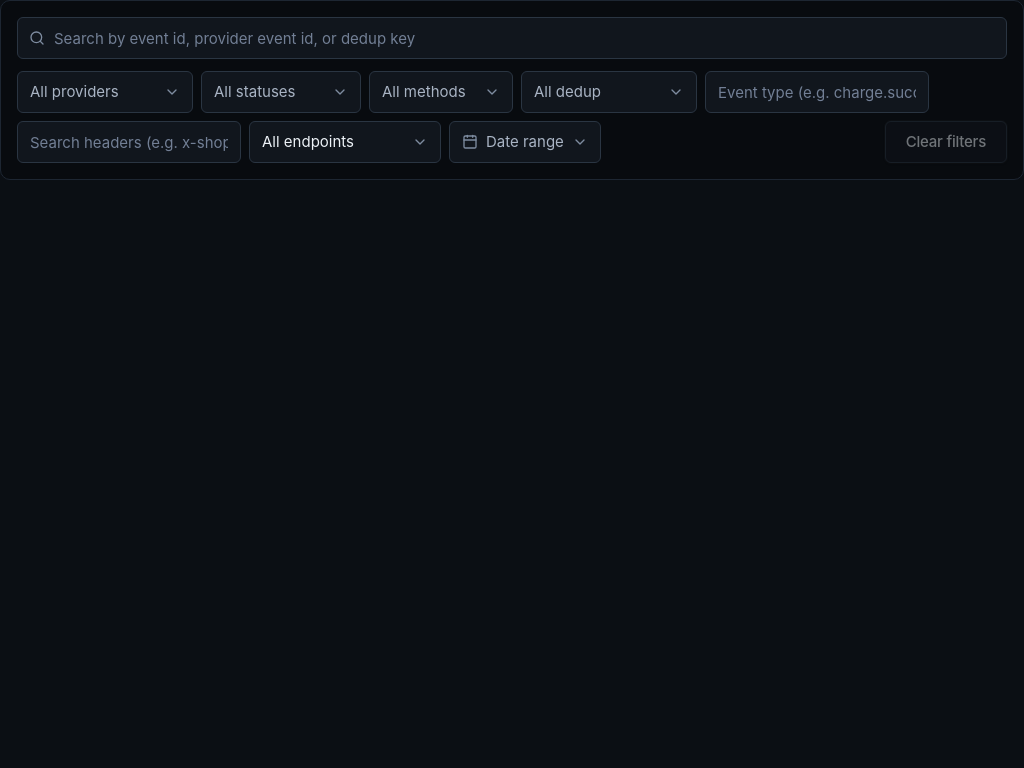
EventsFilterBar — the endpoint facet (org-wide browse only) › lists endpoints by NAME, never by raw uuid
Click the button with aria-label "Filter by endpoint": [345, 142] box [249,121,441,163]
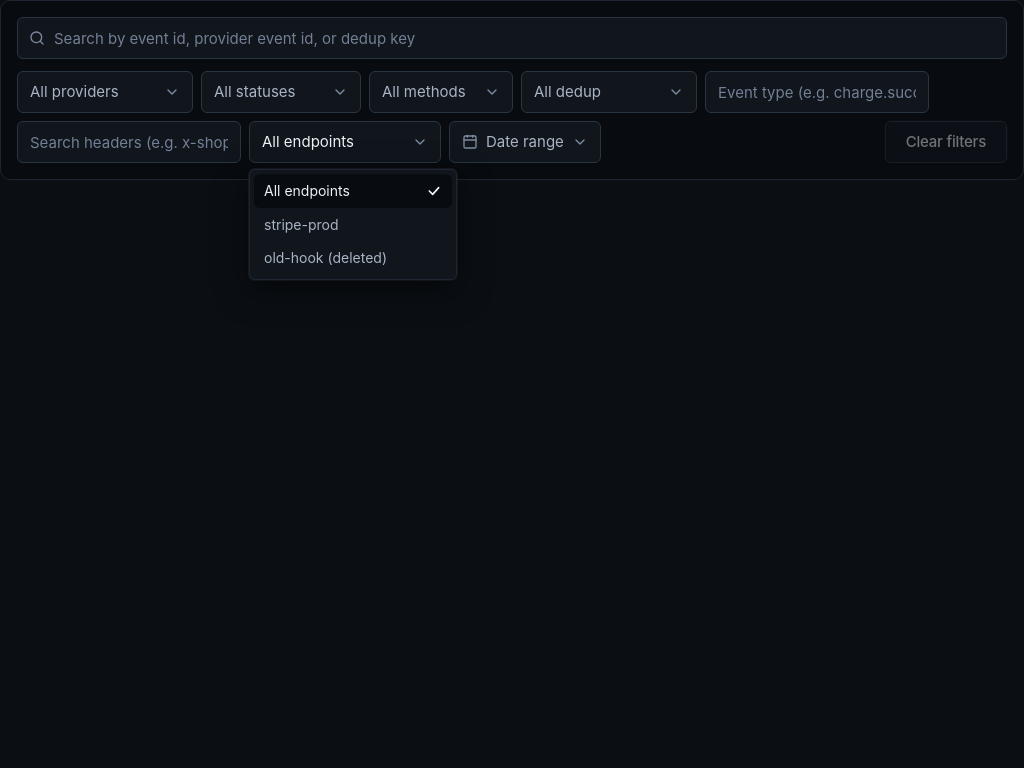
Expected: the option "stripe-prod" is shown, [254,208,452,241]
